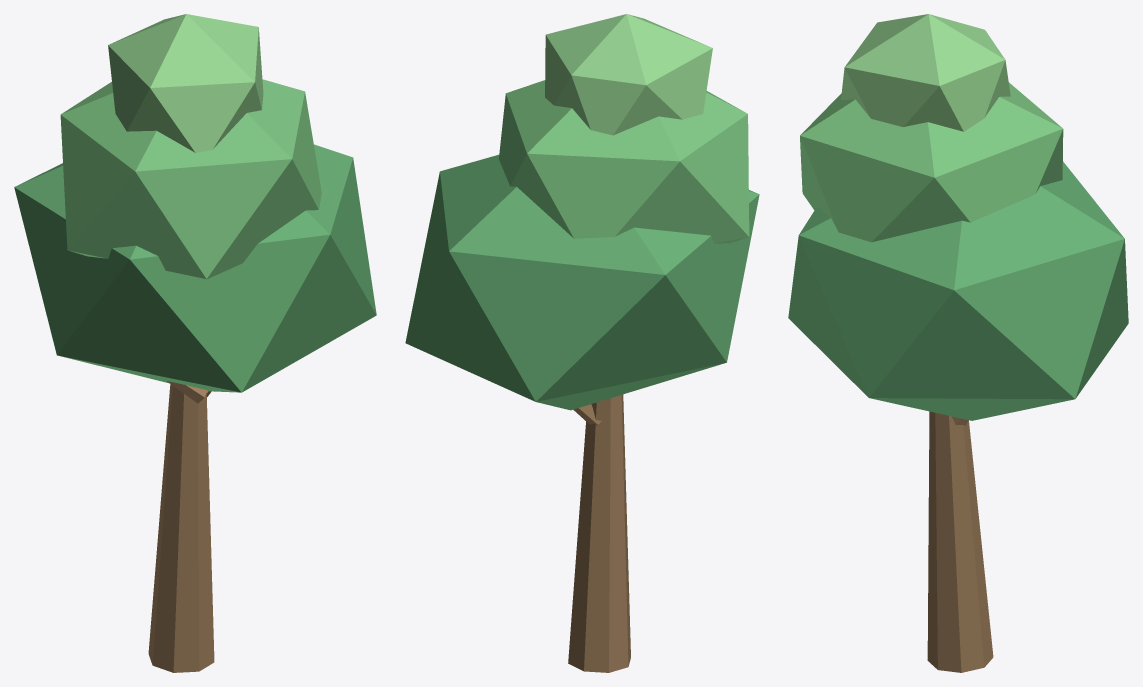
File: tree.glb
3 renders of one model, left to right at view 1: azimuth 30°, elevation 25°; view 2: azimuth 150°, elevation 25°; view 3: azimuth 270°, elevation 25°, orthographic. The views are drawn at different scales.
Visible parts, largest first — view 1: Tree; view 2: Tree; view 3: Tree.
Part boxes in pixels (x1,y1,x2,y2): Tree: (14, 14, 376, 672); Tree: (405, 14, 759, 672); Tree: (788, 14, 1128, 672).
Size of the model in its own units: 2.68 by 5.58 by 2.69.
